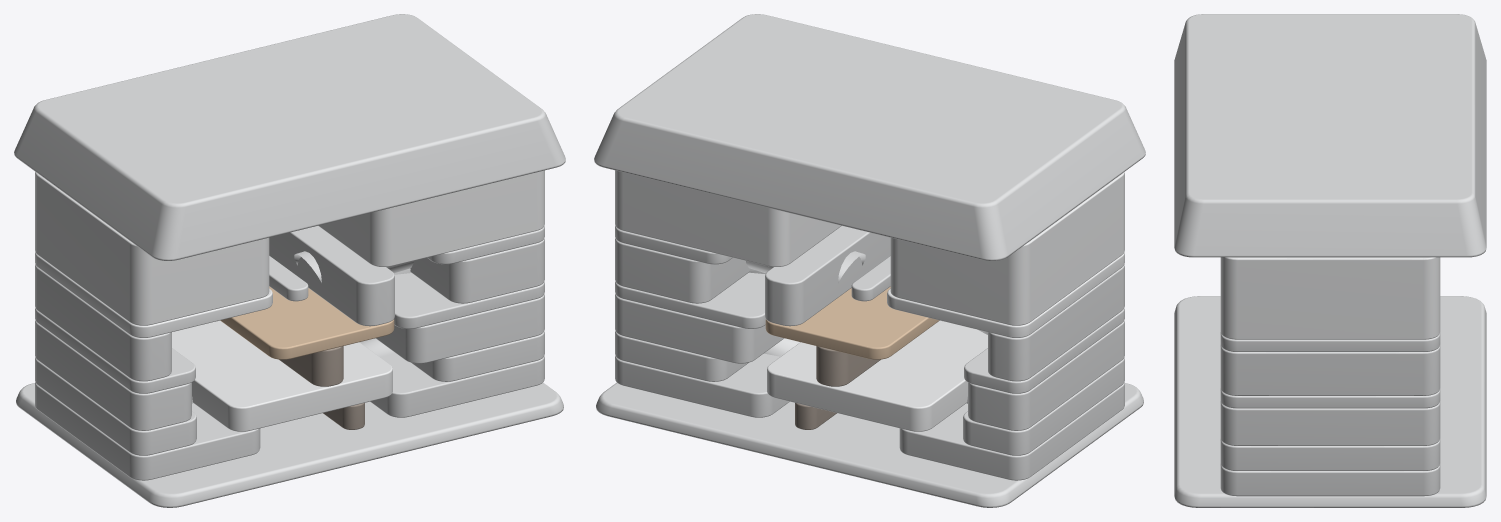
Rendered from case03_sac_trompeur_fauteuil_spatial_decomposed.glb.
3 views of the same model, side by side, from view 1: azimuth 30°, elevation 25°; view 2: azimuth 150°, elevation 25°; view 3: azimuth 270°, elevation 25° (orthographic).
Parts seen in each view (by area): view 1: Chapeau_Superieur, Socle_Inferieur, Element_Lateral_8_1, Element_Lateral_3_2, Element_Lateral_8_2, Element_Lateral_6_3, Element_Lateral_2_1, Element_Lateral_5_2, Element_Lateral_6_1, Element_Lateral_4_1, Element_Lateral_4_3, Element_Lateral_2_3 (+11 smaller); view 2: Chapeau_Superieur, Socle_Inferieur, Element_Lateral_8_1, Element_Lateral_3_2, Element_Lateral_8_2, Element_Lateral_6_3, Element_Lateral_2_1, Element_Lateral_5_2, Element_Lateral_6_1, Element_Lateral_4_1, Element_Lateral_4_3, Element_Lateral_2_3 (+11 smaller); view 3: Chapeau_Superieur, Socle_Inferieur, Element_Lateral_8_2, Element_Lateral_6_4, Element_Lateral_4_3, Element_Lateral_2_3, Element_Lateral_3_3, Element_Lateral_5_3, Element_Lateral_7_3.
Part boxes in pixels (x1=…): Chapeau_Superieur: x1=14, y1=14, x2=565, y2=260; Socle_Inferieur: x1=16, y1=382, x2=563, y2=507; Element_Lateral_8_1: x1=35, y1=172, x2=269, y2=325; Element_Lateral_3_2: x1=172, y1=320, x2=392, y2=431; Element_Lateral_8_2: x1=318, y1=170, x2=544, y2=266; Element_Lateral_6_3: x1=269, y1=226, x2=394, y2=326; Element_Lateral_2_1: x1=35, y1=382, x2=260, y2=480; Element_Lateral_5_2: x1=220, y1=286, x2=394, y2=359; Element_Lateral_6_1: x1=35, y1=264, x2=171, y2=381; Element_Lateral_4_1: x1=35, y1=320, x2=191, y2=430; Element_Lateral_4_3: x1=376, y1=294, x2=544, y2=363; Element_Lateral_2_3: x1=370, y1=353, x2=544, y2=417; Chapeau_Superieur: x1=594, y1=14, x2=1145, y2=260; Socle_Inferieur: x1=596, y1=382, x2=1143, y2=507; Element_Lateral_8_1: x1=890, y1=172, x2=1124, y2=325; Element_Lateral_3_2: x1=767, y1=320, x2=987, y2=431; Element_Lateral_8_2: x1=615, y1=170, x2=841, y2=266; Element_Lateral_6_3: x1=765, y1=226, x2=890, y2=326; Element_Lateral_2_1: x1=899, y1=382, x2=1124, y2=480; Element_Lateral_5_2: x1=765, y1=286, x2=939, y2=359; Element_Lateral_6_1: x1=988, y1=264, x2=1124, y2=381; Element_Lateral_4_1: x1=968, y1=320, x2=1124, y2=430; Element_Lateral_4_3: x1=615, y1=294, x2=783, y2=363; Element_Lateral_2_3: x1=615, y1=353, x2=789, y2=417; Chapeau_Superieur: x1=1174, y1=14, x2=1486, y2=257; Socle_Inferieur: x1=1174, y1=296, x2=1486, y2=507; Element_Lateral_8_2: x1=1220, y1=257, x2=1440, y2=339; Element_Lateral_6_4: x1=1220, y1=345, x2=1440, y2=395; Element_Lateral_4_3: x1=1220, y1=401, x2=1440, y2=445; Element_Lateral_2_3: x1=1220, y1=464, x2=1440, y2=496; Element_Lateral_3_3: x1=1220, y1=439, x2=1440, y2=470; Element_Lateral_5_3: x1=1220, y1=388, x2=1440, y2=408; Element_Lateral_7_3: x1=1220, y1=332, x2=1440, y2=351.
Size of the model in its own units: 0.2912 by 0.2035 by 0.1884.
